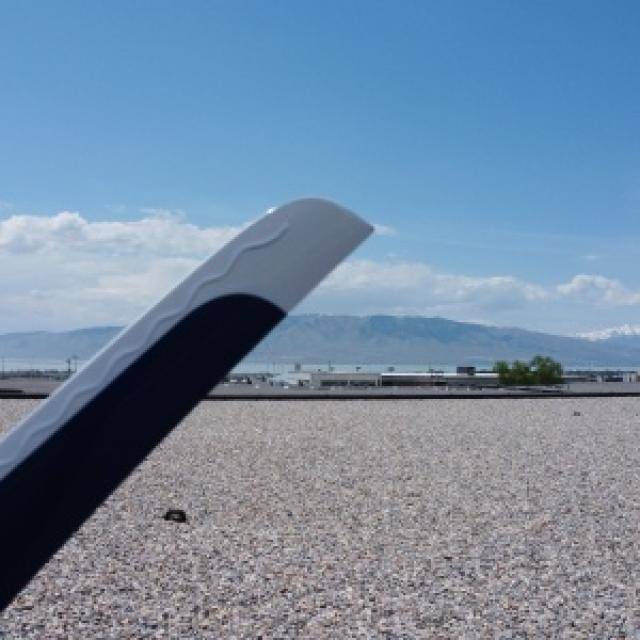healthy: (0, 198, 369, 606)
